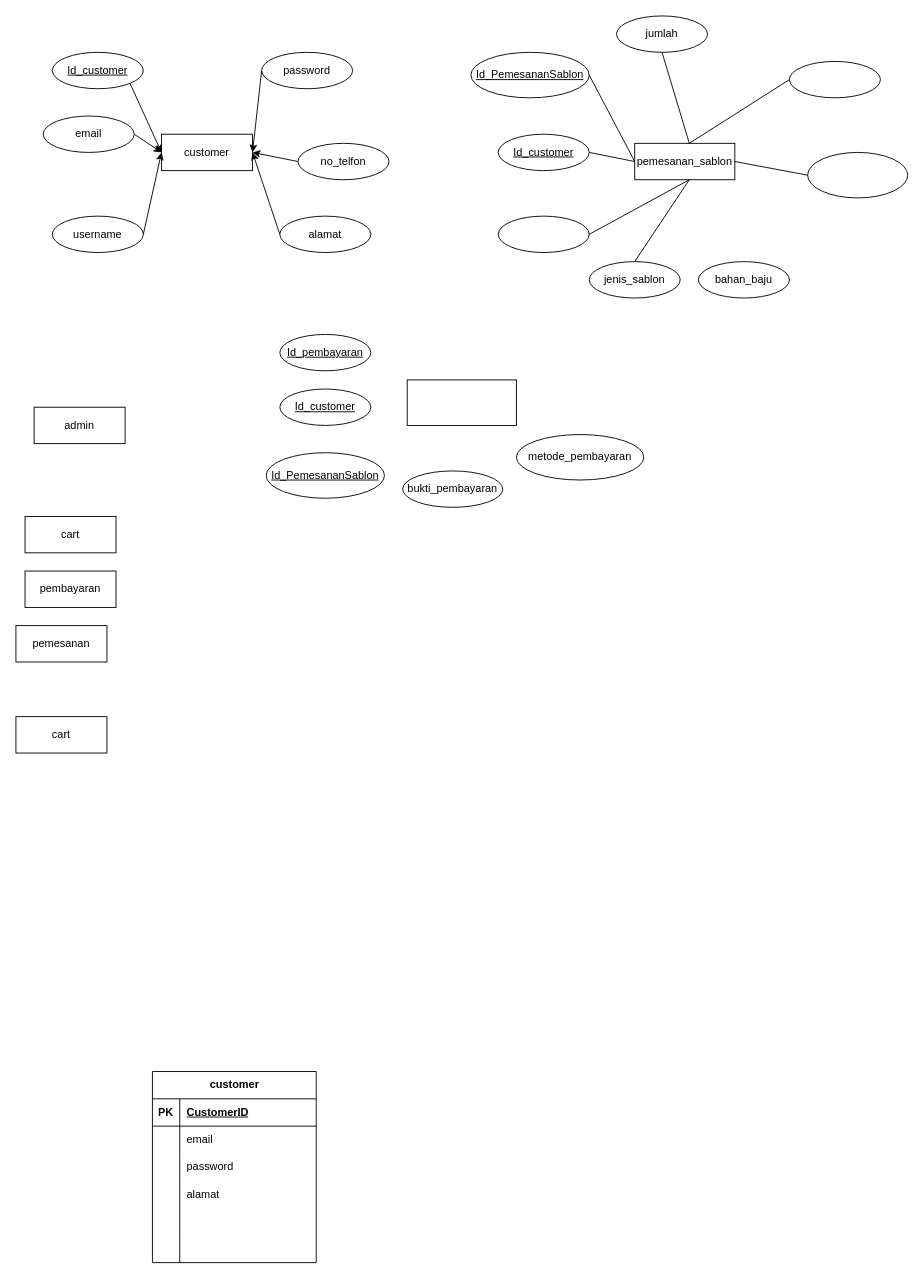
Some shapes in this 924 by 1279 pixel diagram are drawn without their labels. The shapes that lost their labels are listed below. From the top down, each one's centre as x and y in pixels, then its label:
[834,79]: deslripsi_pesanan
[857,175]: status_pembayaran
[543,234]: tgl_pesanan
[461,402]: pembayaran_sablon
